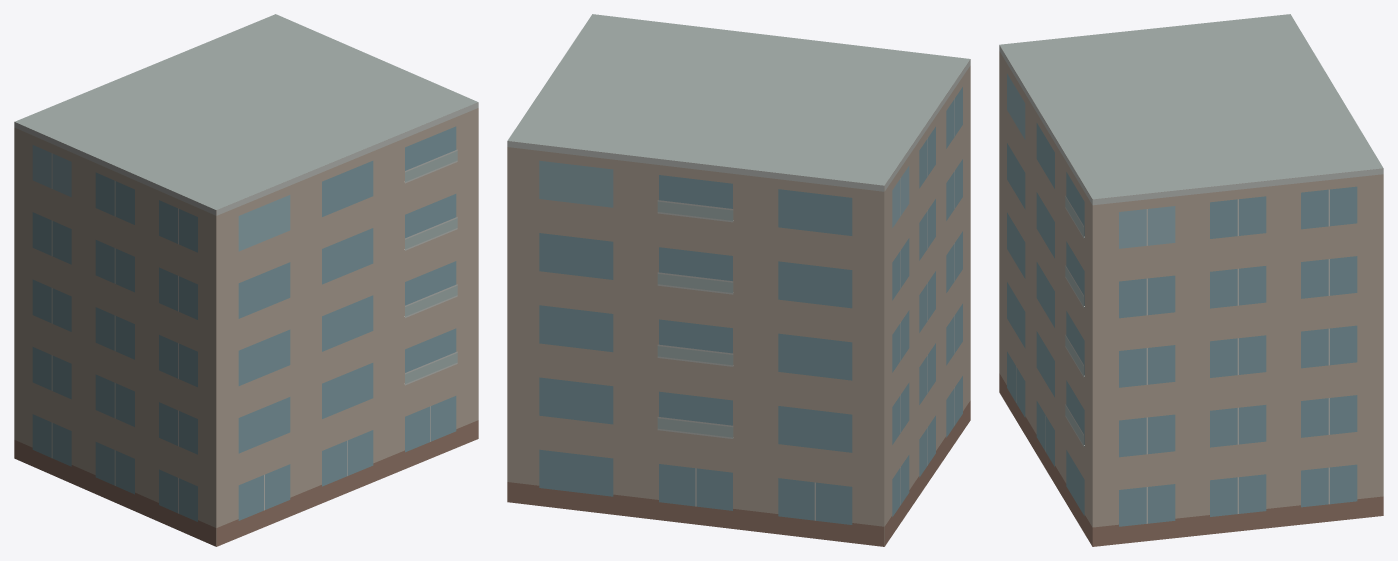
Rendered from survey-upis-32912625.glb.
3 views of the same model, side by side, from view 1: azimuth 30°, elevation 25°; view 2: azimuth 150°, elevation 25°; view 3: azimuth 270°, elevation 25° (orthographic). The views are drawn at different scales.
Parts seen in each view (by area): view 1: survey-upis-32912625.tmp; view 2: survey-upis-32912625.tmp; view 3: survey-upis-32912625.tmp.
Part boxes in pixels (x1,y1,x2,y2): survey-upis-32912625.tmp: [14, 14, 478, 546]; survey-upis-32912625.tmp: [507, 14, 970, 546]; survey-upis-32912625.tmp: [999, 14, 1383, 546].
Size of the model in its own units: 16.49 by 14.4 by 14.45.
